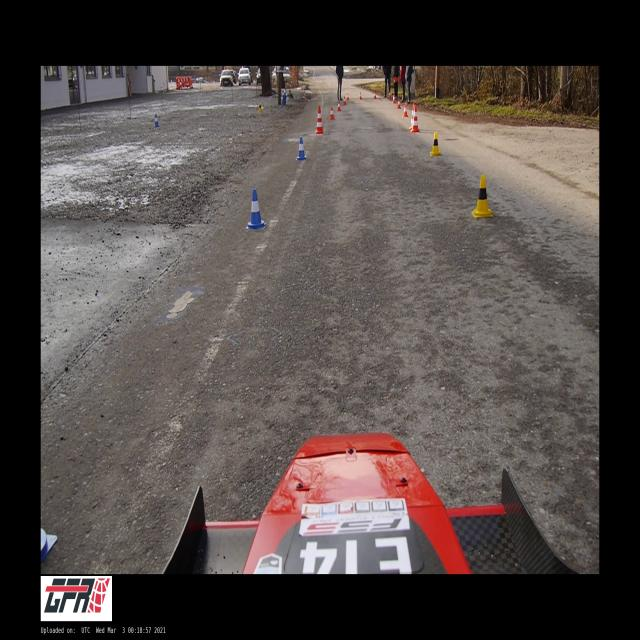blue_cone: (246, 190, 266, 229), (296, 138, 307, 160), (155, 114, 159, 126)
large_orange_cone: (315, 106, 324, 133), (411, 104, 419, 132)
orange_cone: (403, 103, 408, 117), (330, 108, 334, 120), (398, 97, 402, 109), (337, 101, 341, 111), (392, 94, 396, 104), (388, 91, 392, 98), (343, 96, 346, 105), (359, 92, 362, 99), (374, 91, 376, 99), (347, 93, 349, 100)
yellow_cone: (472, 175, 493, 218), (430, 132, 442, 156), (258, 102, 262, 112)
